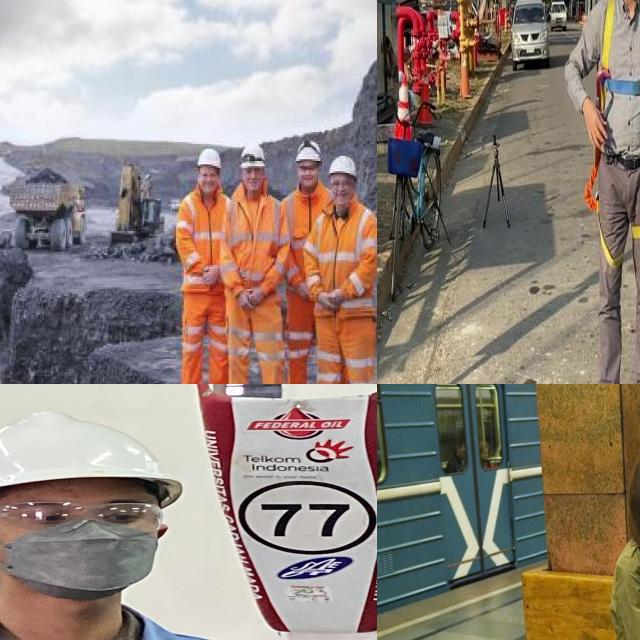Harness: (597, 0, 640, 110)
face_mask: (0, 498, 161, 596)
face_nomask: (329, 177, 356, 204), (294, 163, 318, 186), (243, 166, 264, 190), (196, 170, 219, 191)
glasses: (0, 495, 172, 536)
hand_noglove: (196, 262, 222, 290), (244, 282, 268, 306), (315, 291, 339, 314), (234, 287, 253, 311)
head_helmet: (0, 408, 192, 505), (326, 154, 360, 178), (294, 138, 323, 166), (240, 141, 268, 168), (193, 146, 224, 169)
person: (0, 408, 377, 640), (222, 138, 296, 384), (302, 151, 377, 384), (175, 148, 242, 384)
